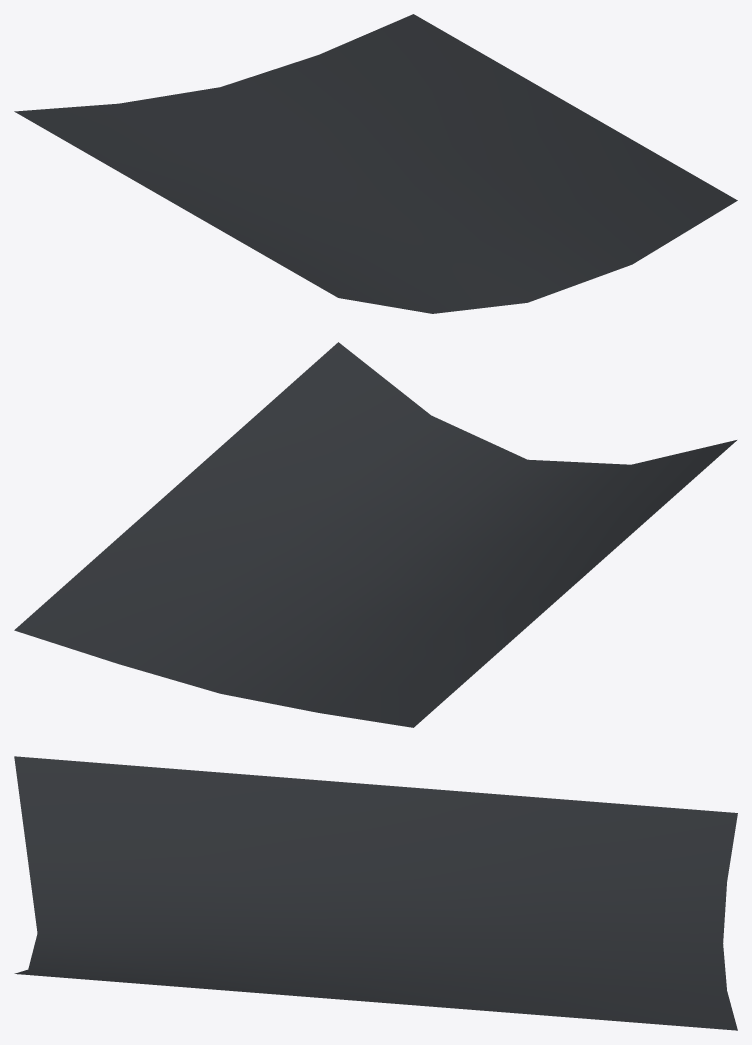
Rendered from SM_Bld_Window_Net_Half_01.glb.
The picture shows the model from 3 angles, top to bottom: view 1: azimuth 30°, elevation 25°; view 2: azimuth 150°, elevation 25°; view 3: azimuth 270°, elevation 25°; orthographic projection. The views are drawn at different scales.
Visible parts, largest first — view 1: SM_Bld_Window_Net_Half_01; view 2: SM_Bld_Window_Net_Half_01; view 3: SM_Bld_Window_Net_Half_01.
Part boxes in pixels (x1,y1,x2,y2): SM_Bld_Window_Net_Half_01: (14,14,737,313); SM_Bld_Window_Net_Half_01: (14,342,736,727); SM_Bld_Window_Net_Half_01: (14,756,737,1030).
Bounding box in the file's own units: 2.49 × 0.4187 × 3.5.
1 material, 1 textured.
